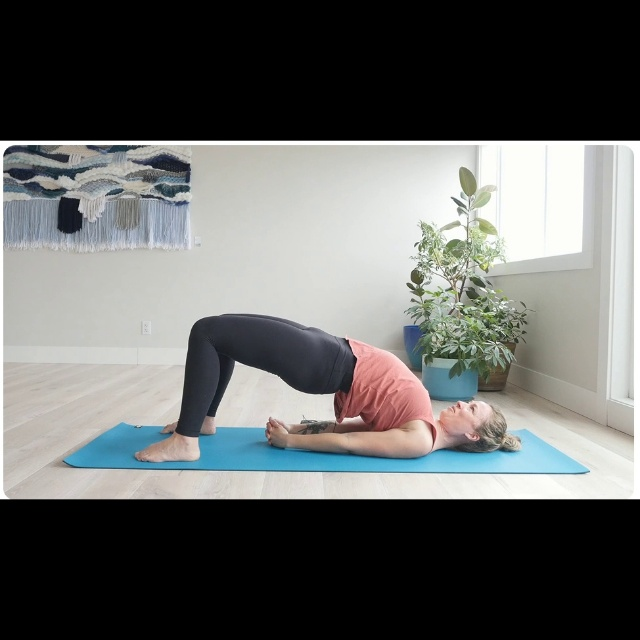Bridge_Pose: (126, 301, 529, 464)
